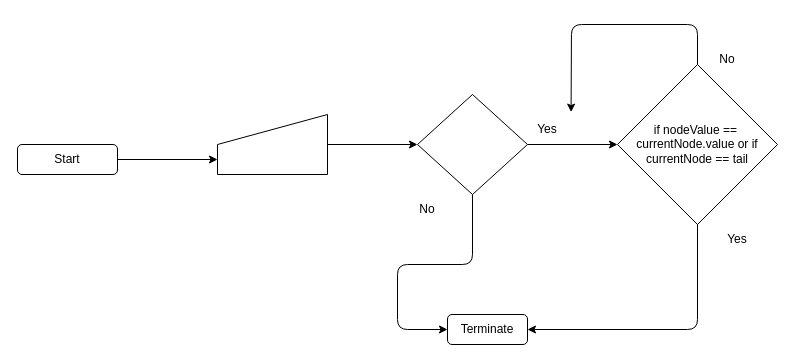
This 795x362 diagram has some shape labels left out. Each missing label, with the centre of its shape:
"check Head?" goes at point 472,144.
"nodeValue" goes at point 272,144.
